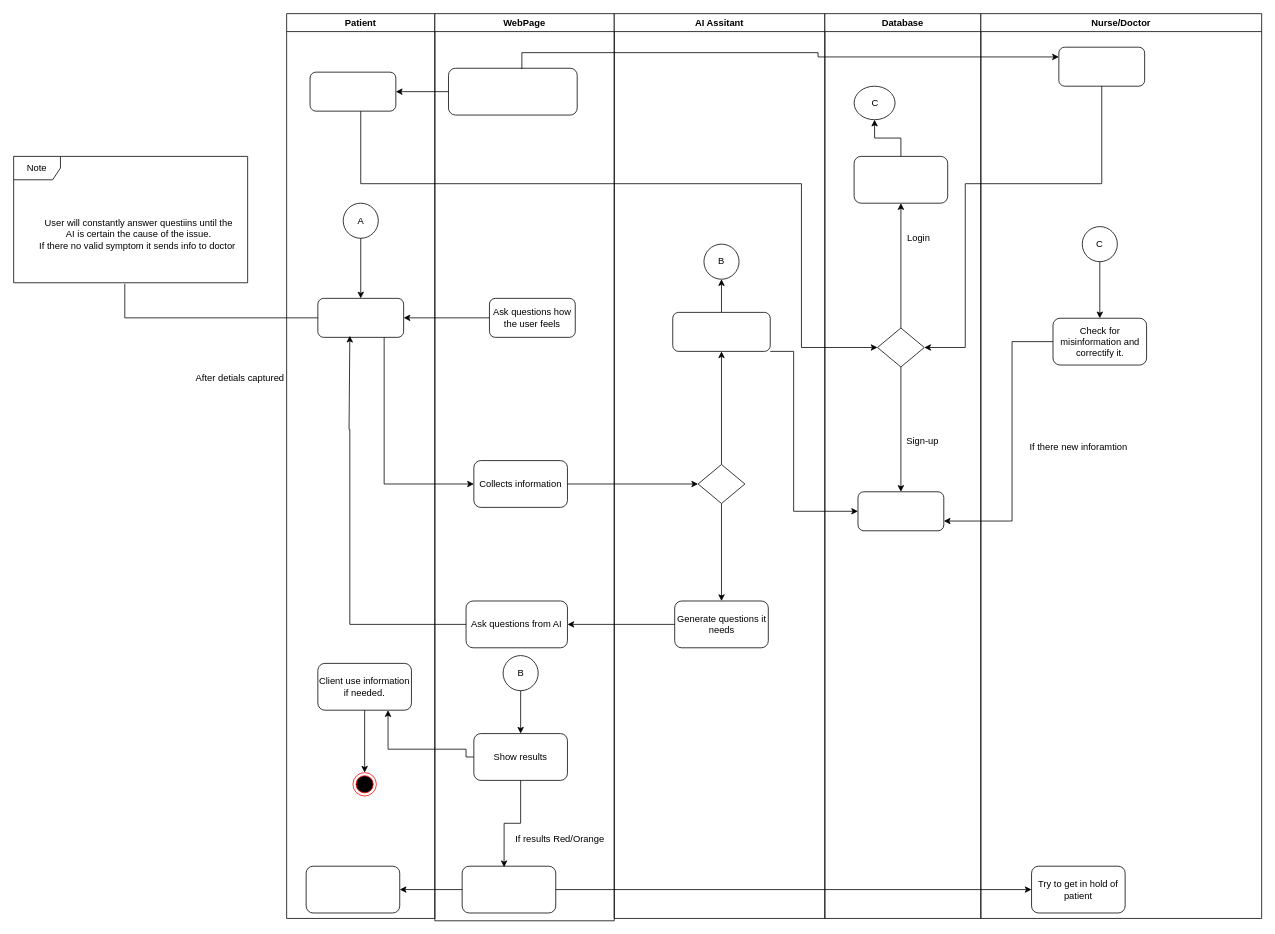
Image size: 1275x934. Some labels were removed from this diagram. The centre of each missing label's shape, as x and y in pixels:
Answer questions: the point at 360,317
Ask to sign in/login with email address(For identification): the point at 512,91
Contacts hospital: the point at 352,889
Generate the triage colour and offer advice: the point at 721,331
Login with staff detials: the point at 1101,66
Retrieve information: the point at 900,179
Sign-up/Login with email address: the point at 352,91
Store information: the point at 900,511
Warn user of potentional danger and give detials of closet hospital: the point at 508,889
